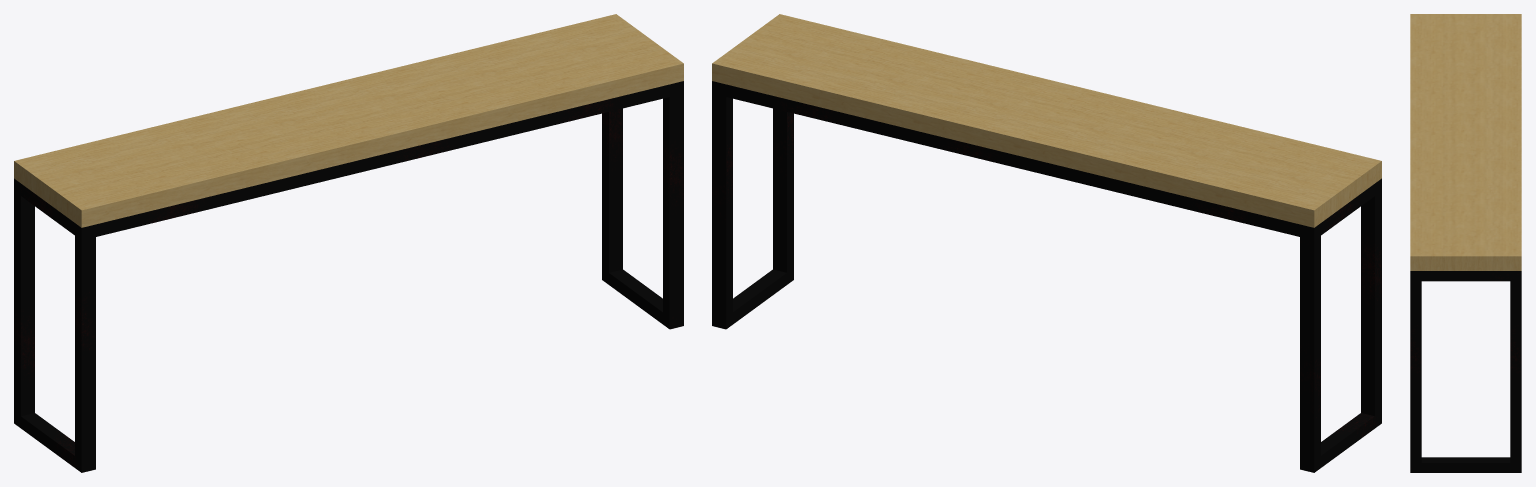
File: LGSeochoB1CafeTableLong.fbx
3 views of the same model, side by side, from view 1: azimuth 30°, elevation 25°; view 2: azimuth 150°, elevation 25°; view 3: azimuth 270°, elevation 25° (orthographic). The views are drawn at different scales.
Visible parts, largest first — view 1: LGSeochoB1CafeWood, LGSeochoB1Metal; view 2: LGSeochoB1CafeWood, LGSeochoB1Metal; view 3: LGSeochoB1CafeWood, LGSeochoB1Metal.
Boxes of the visible parts, left/top/right/bottom form: LGSeochoB1CafeWood: left=14, top=14, right=683, bottom=227; LGSeochoB1Metal: left=14, top=81, right=683, bottom=472; LGSeochoB1CafeWood: left=712, top=14, right=1381, bottom=227; LGSeochoB1Metal: left=712, top=81, right=1381, bottom=472; LGSeochoB1CafeWood: left=1410, top=14, right=1521, bottom=270; LGSeochoB1Metal: left=1410, top=271, right=1521, bottom=472.
Bounding box in the file's own units: 180 × 75 × 35.
Materials: 2 (2 with a texture image).
